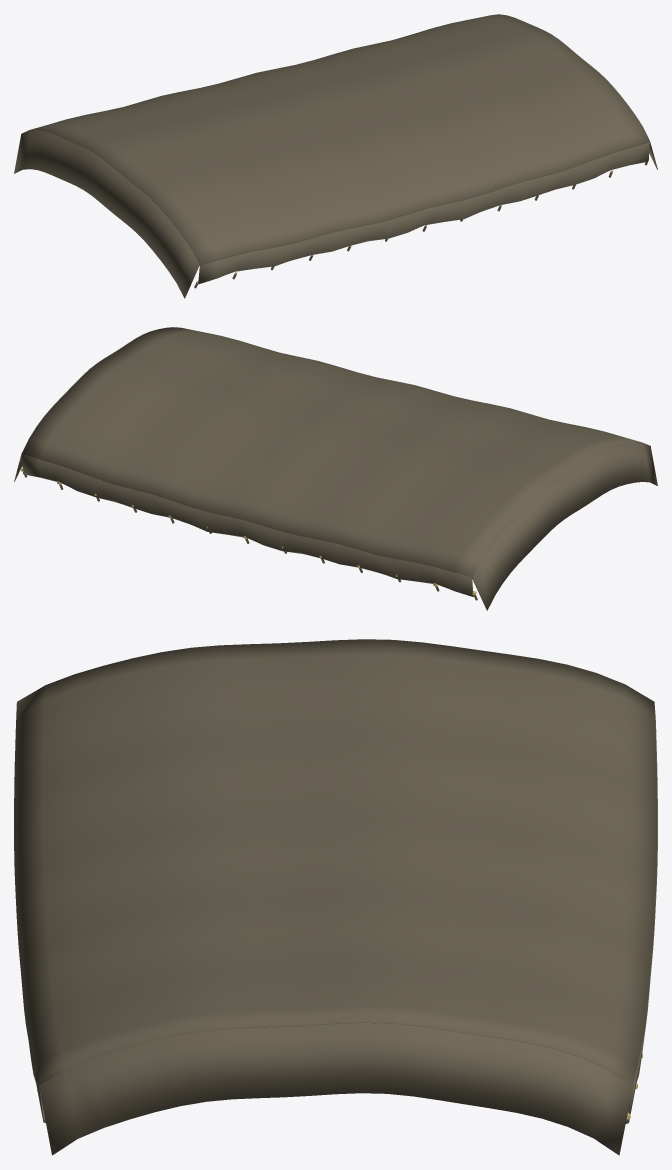
The model's file is Canopy_Cover.fbx.
3 renders of one model, top to bottom at view 1: azimuth 30°, elevation 25°; view 2: azimuth 150°, elevation 25°; view 3: azimuth 270°, elevation 25°, orthographic. The views are drawn at different scales.
Visible parts, largest first — view 1: Canopy_Cover; view 2: Canopy_Cover; view 3: Canopy_Cover.
Part boxes in pixels (x1,y1,x2,y2): Canopy_Cover: (14,14,657,298); Canopy_Cover: (14,327,657,610); Canopy_Cover: (14,639,657,1155).
Size of the model in its own units: 2.98 by 0.4582 by 1.95.
